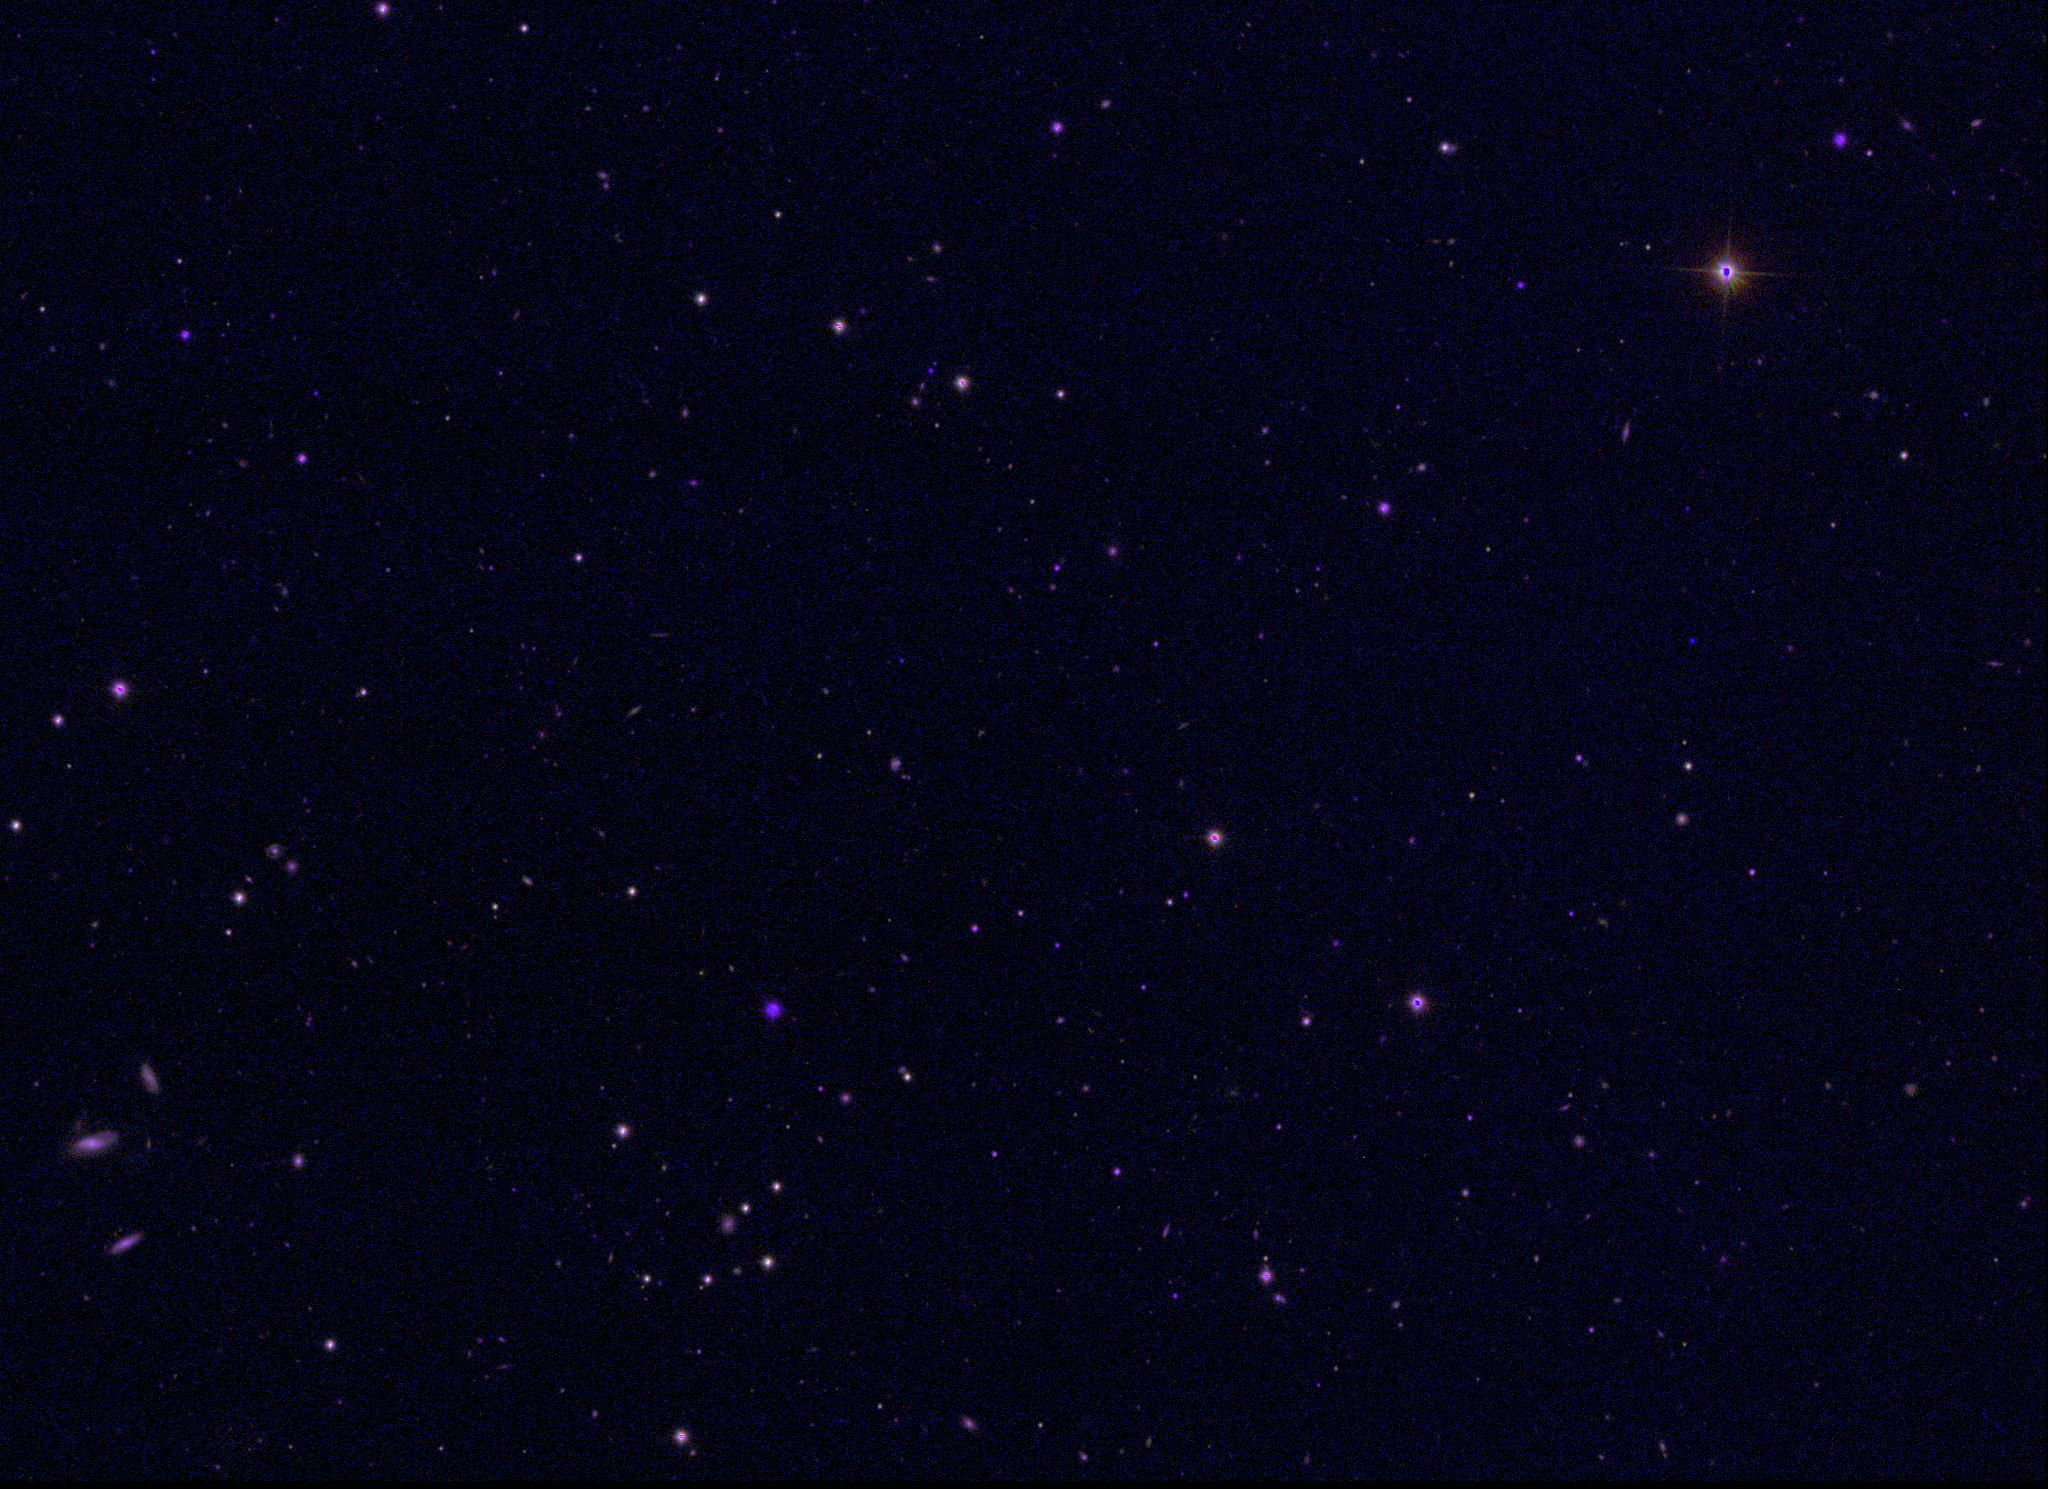L: (1685, 632, 1700, 646)
